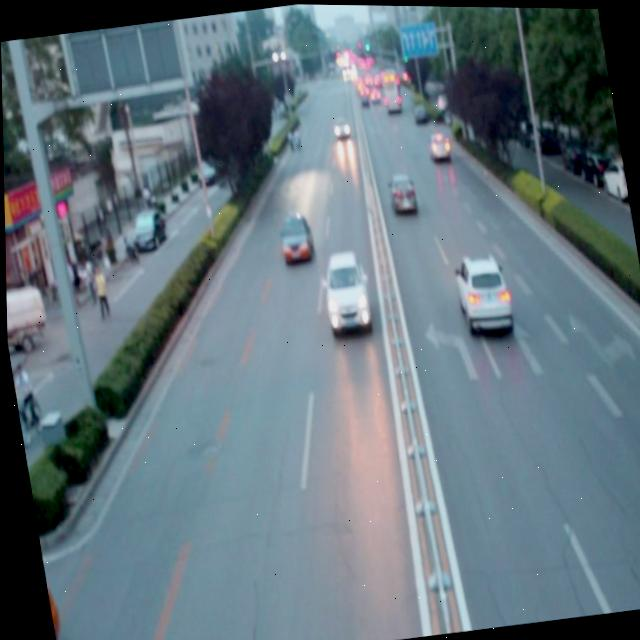car: (451, 247, 515, 336), (317, 246, 371, 334), (274, 209, 315, 266), (384, 170, 417, 216)
